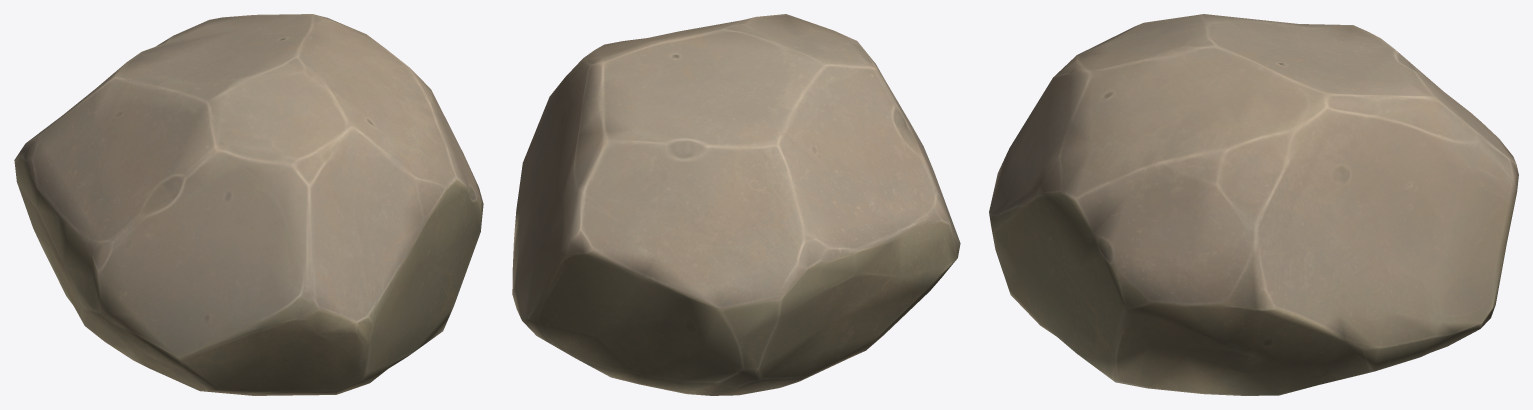
The model's file is SM_Rock_Small_1.fbx.
3 views of the same model, side by side, from view 1: azimuth 30°, elevation 25°; view 2: azimuth 150°, elevation 25°; view 3: azimuth 270°, elevation 25° (orthographic). The views are drawn at different scales.
Parts seen in each view (by area): view 1: SM_Rock_Small_1_LOD0; view 2: SM_Rock_Small_1_LOD0; view 3: SM_Rock_Small_1_LOD0.
Part boxes in pixels (x1,y1,x2,y2): SM_Rock_Small_1_LOD0: (14, 14, 483, 395); SM_Rock_Small_1_LOD0: (512, 14, 960, 395); SM_Rock_Small_1_LOD0: (989, 14, 1518, 395).
Bounding box in the file's own units: 94.56 × 103 × 62.84.
Materials: 1 (1 with a texture image).
